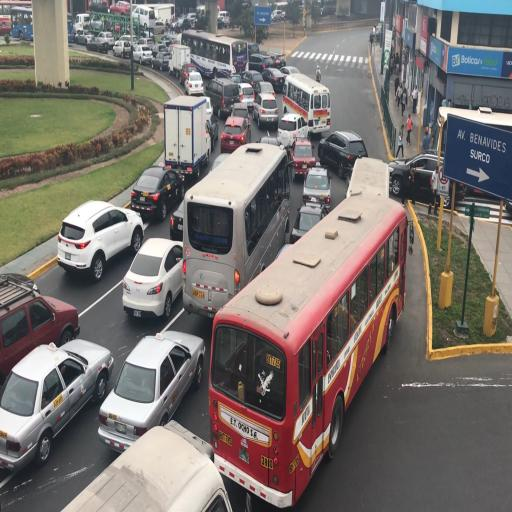auto: (55, 420, 230, 510), (1, 338, 114, 476), (98, 329, 204, 448), (1, 271, 78, 393), (57, 196, 143, 278), (121, 237, 186, 319), (386, 151, 464, 210), (170, 157, 222, 244), (130, 164, 184, 221), (318, 129, 366, 179), (290, 201, 328, 243), (206, 77, 240, 119), (302, 164, 331, 211), (277, 110, 305, 151), (290, 137, 316, 181), (222, 114, 251, 153), (253, 92, 278, 128), (234, 79, 257, 112), (230, 101, 254, 132), (260, 67, 286, 95), (248, 52, 275, 74), (241, 69, 264, 94), (151, 48, 174, 72), (86, 32, 112, 53), (132, 41, 154, 65), (254, 80, 275, 104), (180, 62, 199, 88), (206, 112, 219, 150), (112, 36, 132, 58), (174, 13, 194, 32), (74, 28, 95, 46), (88, 12, 105, 34), (74, 12, 91, 34), (278, 65, 300, 81), (258, 135, 279, 149), (109, 1, 130, 15), (270, 52, 286, 70), (124, 34, 142, 50), (88, 0, 109, 13), (102, 18, 118, 34), (157, 36, 175, 50), (150, 42, 166, 57), (138, 36, 155, 50), (205, 122, 211, 161), (216, 66, 232, 80), (138, 26, 155, 39), (205, 95, 213, 122), (152, 19, 165, 35), (271, 9, 284, 23), (230, 74, 242, 86), (217, 12, 225, 28), (223, 14, 231, 28)
bus: (215, 160, 397, 496), (432, 106, 510, 224), (281, 72, 329, 138), (10, 5, 34, 40)
moto: (316, 64, 321, 81)
